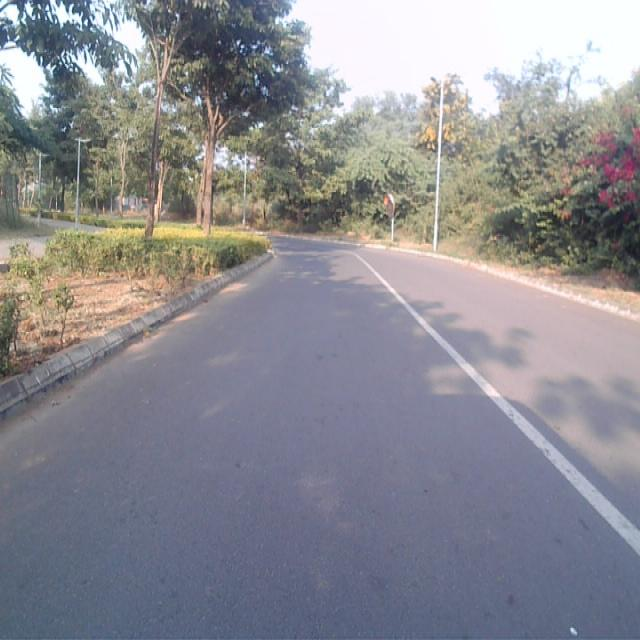lane: (0, 247, 640, 640)
